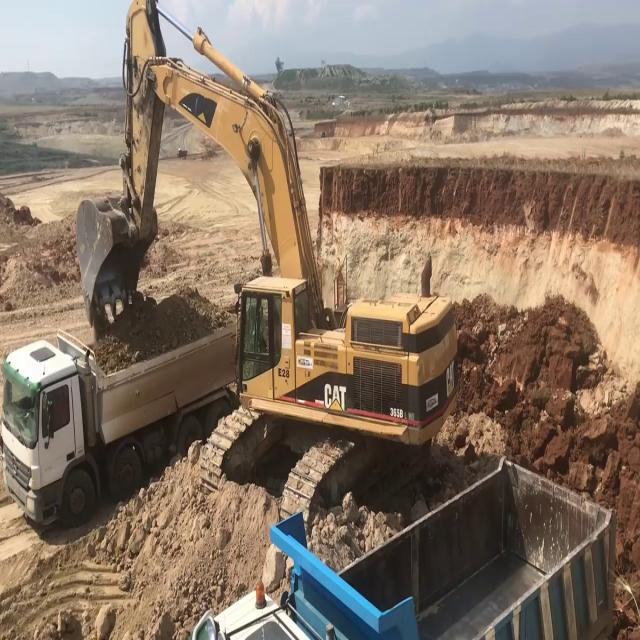excavator: (71, 6, 464, 540)
